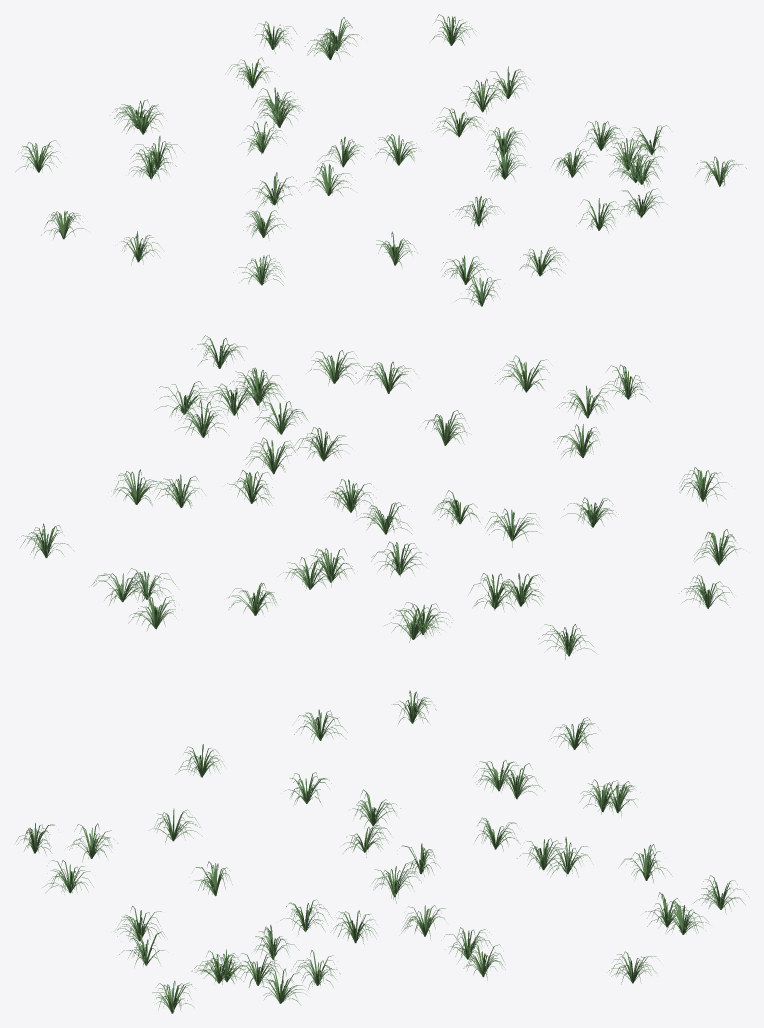
File: teaching3-vegetation-17-near.glb
3 views of the same model, one above another, from view 1: azimuth 30°, elevation 25°; view 2: azimuth 150°, elevation 25°; view 3: azimuth 270°, elevation 25° (orthographic). The views are drawn at different scales.
Visible parts, largest first — view 1: mondo grass; view 2: mondo grass; view 3: mondo grass.
Boxes of the visible parts, x1=… form: mondo grass: x1=15, y1=14, x2=746, y2=306; mondo grass: x1=20, y1=335, x2=743, y2=659; mondo grass: x1=16, y1=690, x2=748, y2=1013.
Size of the model in its own units: 11.44 by 0.4755 by 11.32.
